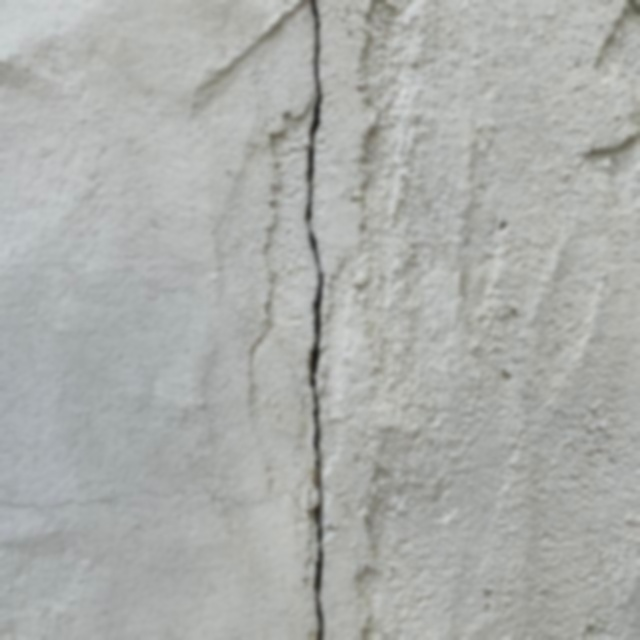SurfaceCrack: (233, 0, 381, 640)
